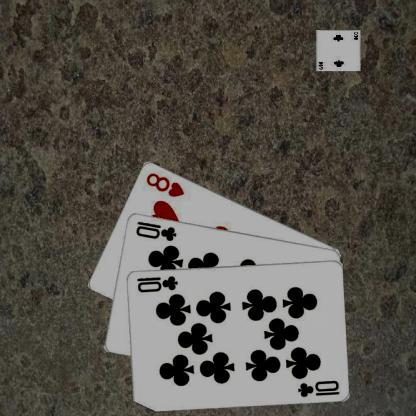10C: (135, 218, 179, 242), (136, 272, 180, 293), (297, 378, 342, 398)
8H: (145, 170, 187, 198)
